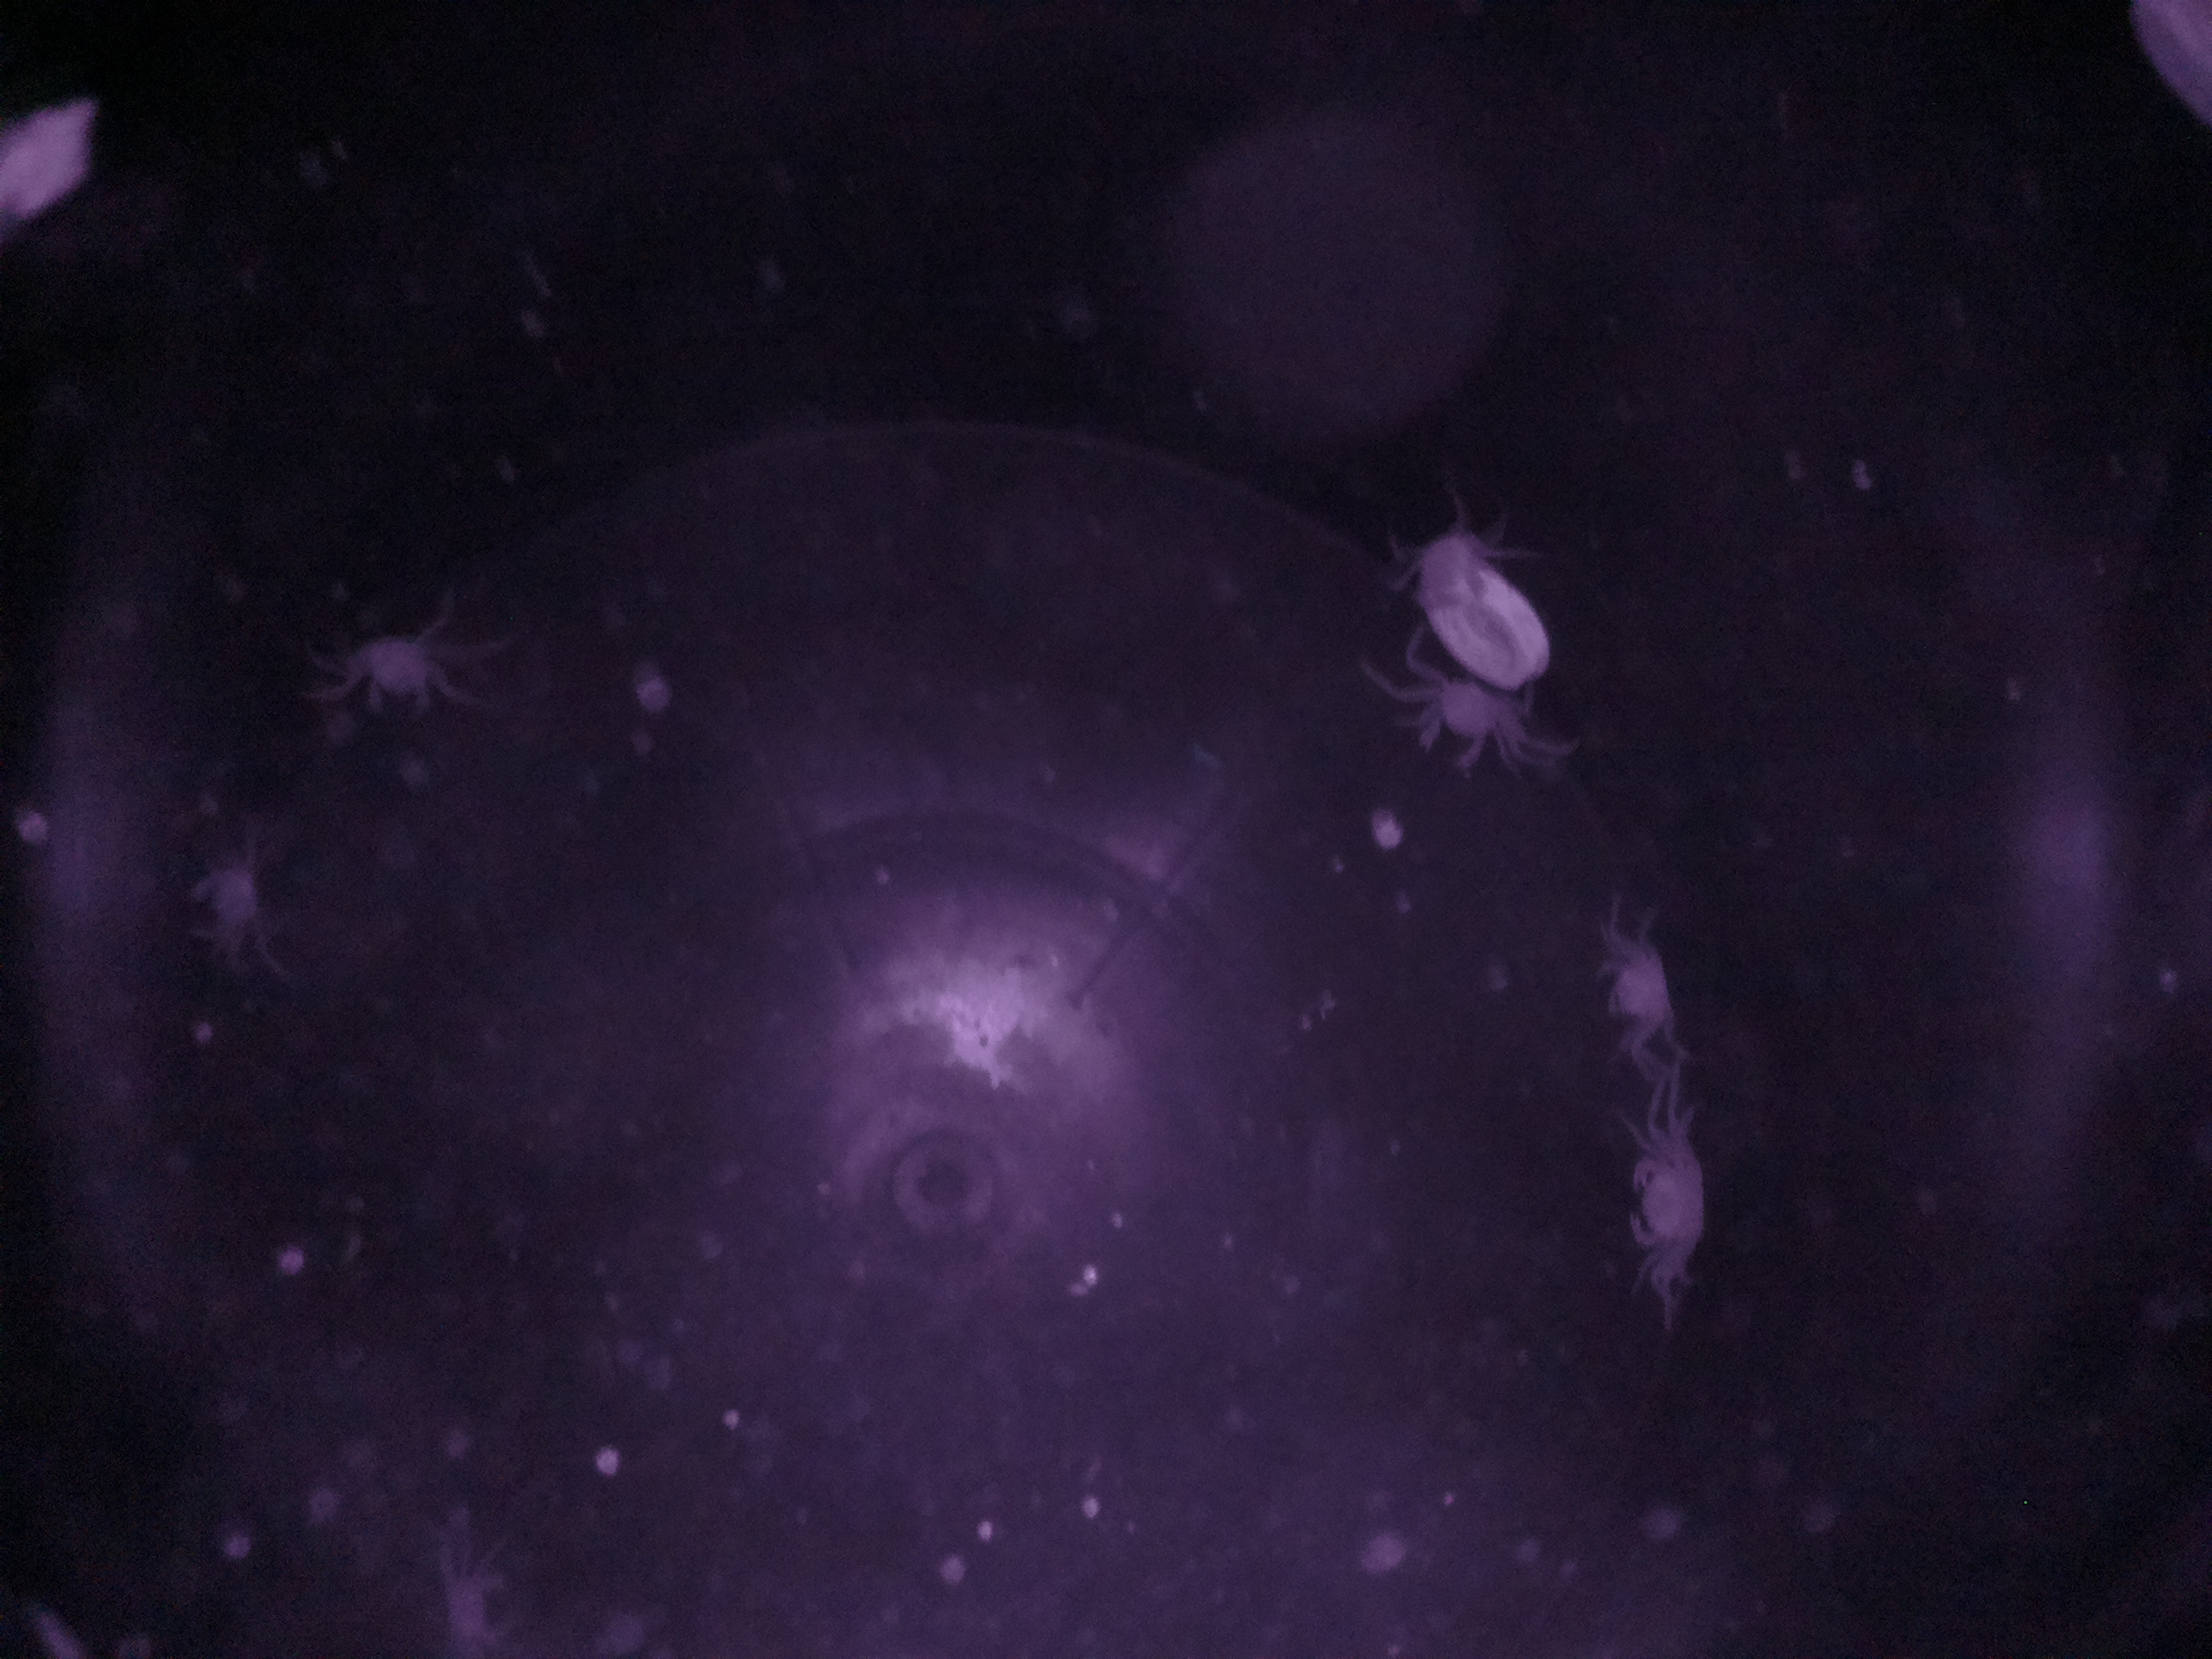Crab: (1606, 1129, 1740, 1276), (331, 620, 462, 732), (1580, 922, 1696, 1046), (1400, 662, 1517, 784)
